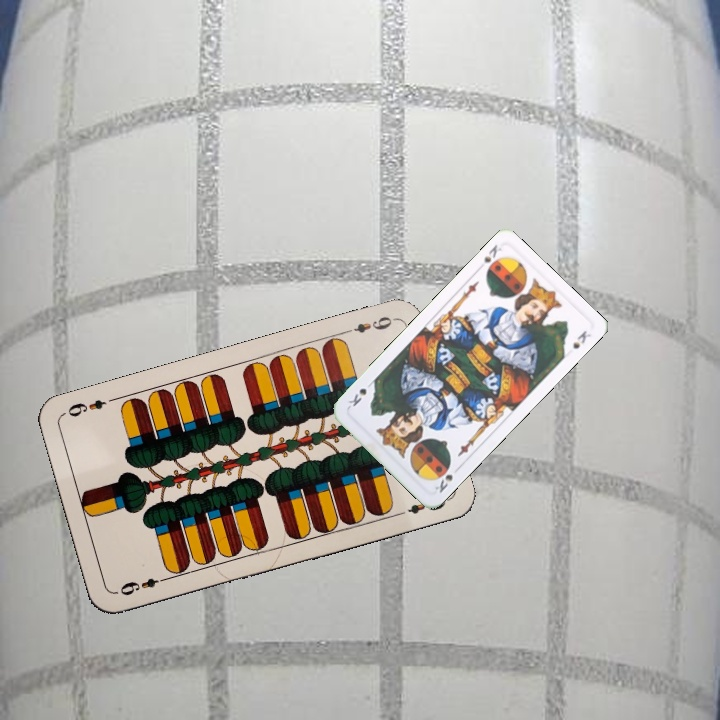E9: (113, 573, 171, 598), (340, 312, 398, 336)
SK: (474, 240, 504, 274), (431, 470, 455, 496)
